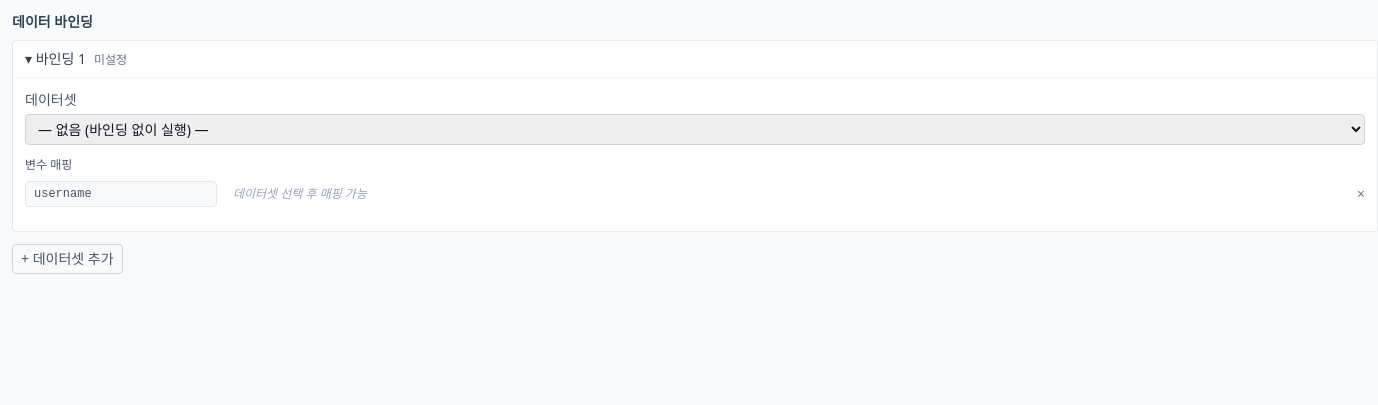
Test: DataBindingPanel › 자동 매칭 행의 컬럼을 사용자가 바꾸면 '자동 연결됨' 배지가 사라진다
Select "users.csv (100행)" in the dropdown labelled "데이터셋": x=695, y=130 top-left (25, 114), bottom-right (1365, 145)
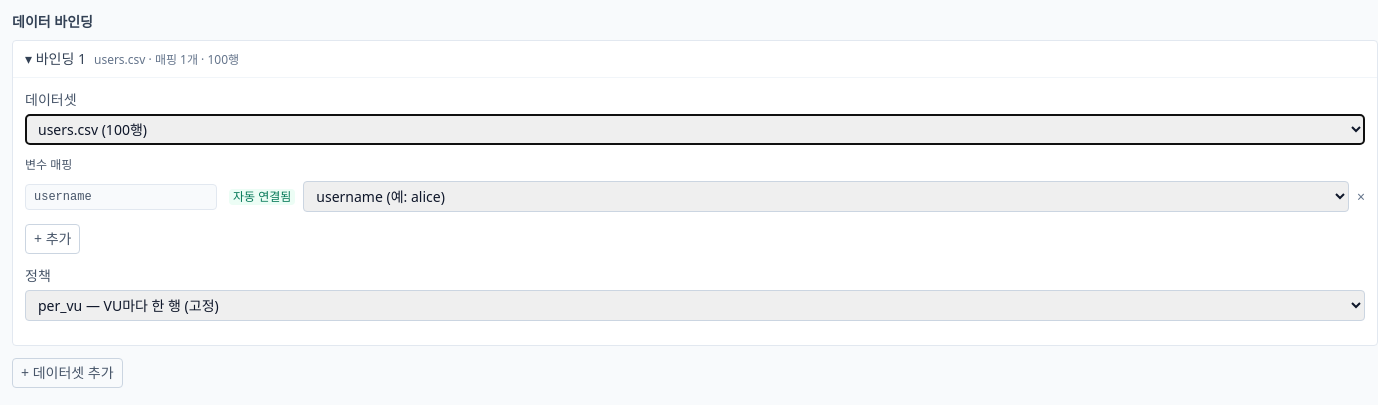
Check: the text "자동 연결됨" is shown, box top-left (229, 188), bottom-right (295, 204)
Select "email (예: alice@example.com)" in the dropdown named "username 소스": x=826, y=196 top-left (303, 181), bottom-right (1349, 212)
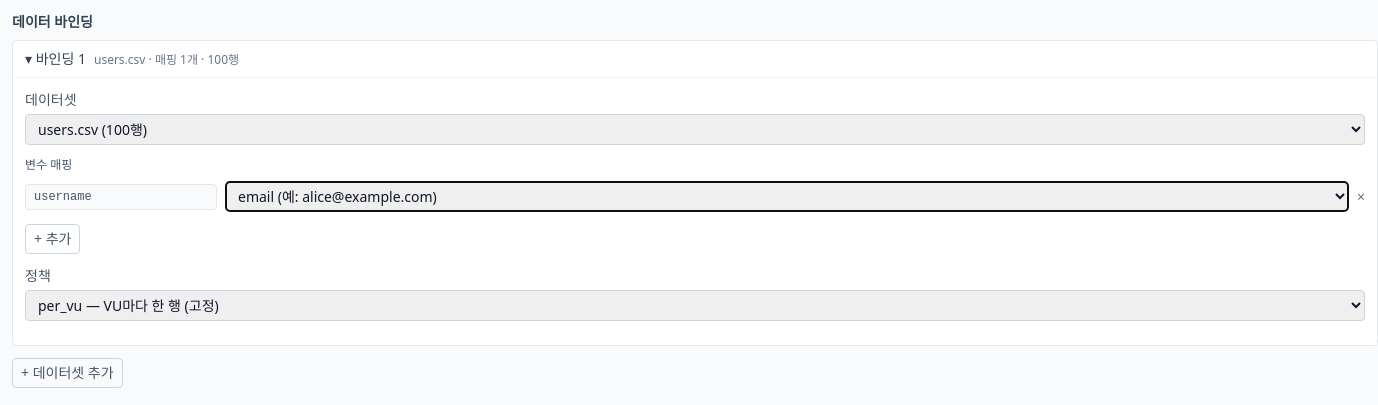
Check: the text "자동 연결됨" is gone
